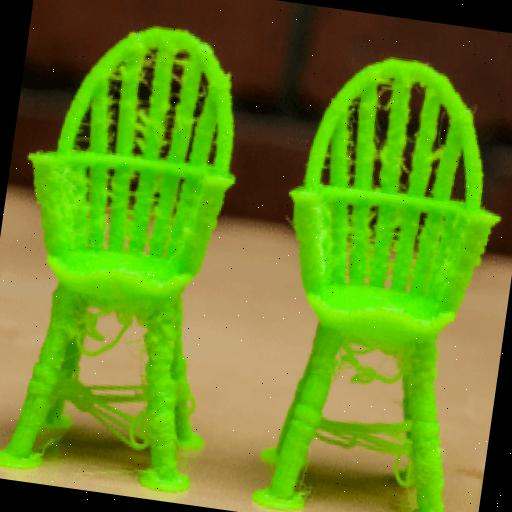stringing: (42, 366, 155, 466), (310, 397, 418, 485), (67, 292, 139, 360), (130, 52, 160, 160), (157, 56, 188, 160), (100, 64, 126, 160)
